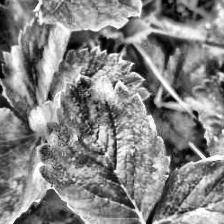Powdery Mildew Leaf: (35, 73, 171, 224), (29, 45, 151, 134), (0, 13, 71, 124), (0, 106, 52, 224), (148, 153, 224, 224)
